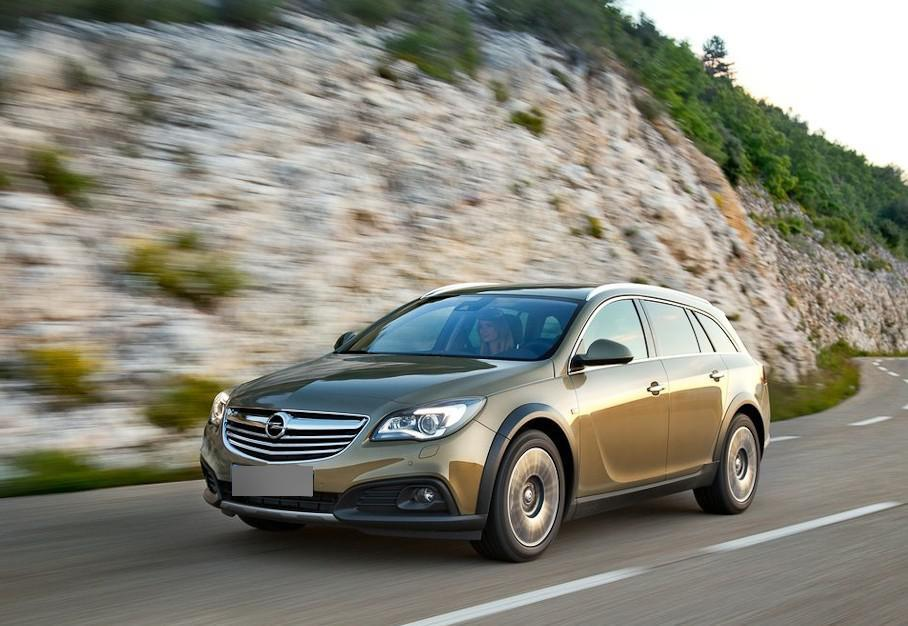Wagon: (199, 283, 770, 564)
